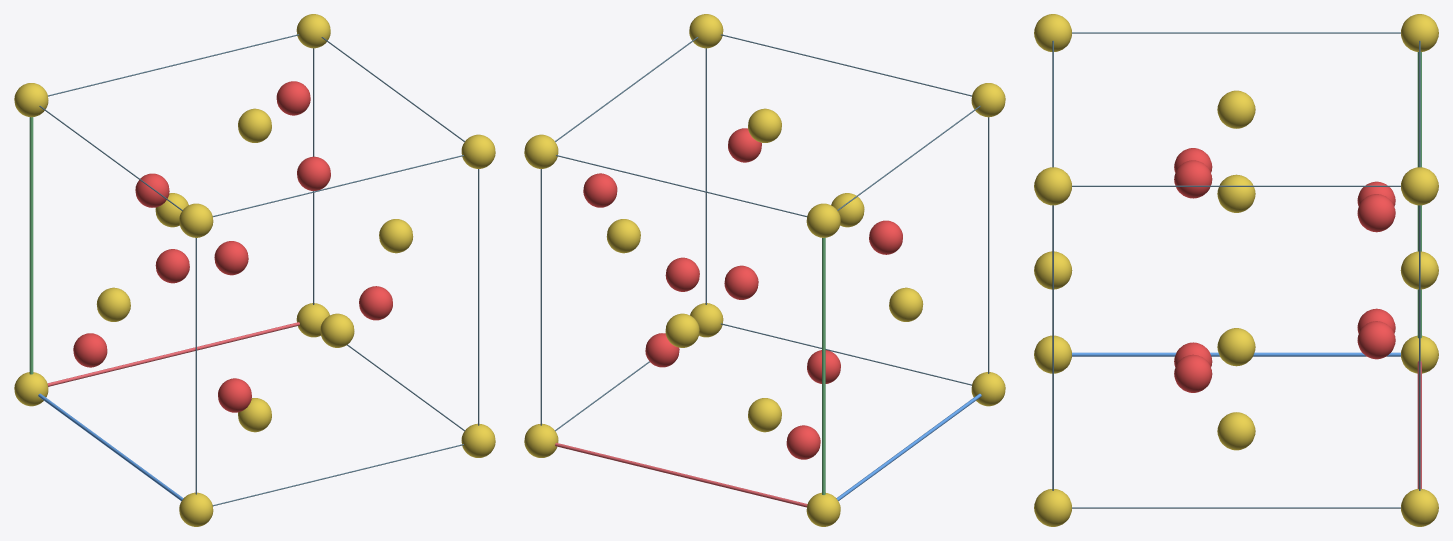
File: chat-solid-sulfur-dioxide.glb
3 views of the same model, side by side, from view 1: azimuth 30°, elevation 25°; view 2: azimuth 150°, elevation 25°; view 3: azimuth 270°, elevation 25° (orthographic). The views are drawn at different scales.
Parts seen in each view (by area): view 1: S · S · 1 (×14), O · O · 1 (×8), Ô mạng và các trục a, b, c; view 2: S · S · 1 (×14), O · O · 1 (×8), Ô mạng và các trục a, b, c; view 3: S · S · 1 (×14), O · O · 1 (×8), Ô mạng và các trục a, b, c.
Part boxes in pixels (x1,y1,x2,y2): S · S · 1 (×14): [14, 14, 495, 526]; O · O · 1 (×8): [73, 81, 392, 412]; Ô mạng và các trục a, b, c: [29, 34, 479, 506]; S · S · 1 (×14): [524, 14, 1005, 526]; O · O · 1 (×8): [583, 128, 902, 459]; Ô mạng và các trục a, b, c: [540, 34, 989, 507]; S · S · 1 (×14): [1034, 14, 1438, 526]; O · O · 1 (×8): [1174, 148, 1395, 392]; Ô mạng và các trục a, b, c: [1052, 32, 1421, 508].
Size of the model in its own units: 6.71 by 6.58 by 6.78.
